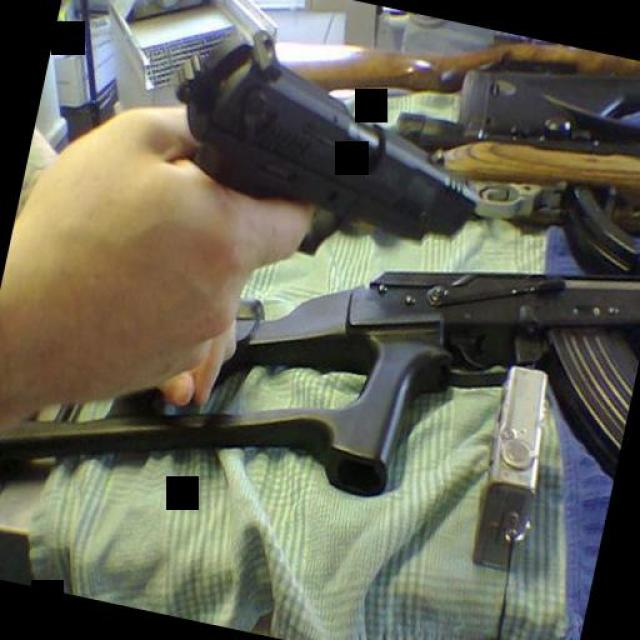gun: (134, 10, 502, 280)
